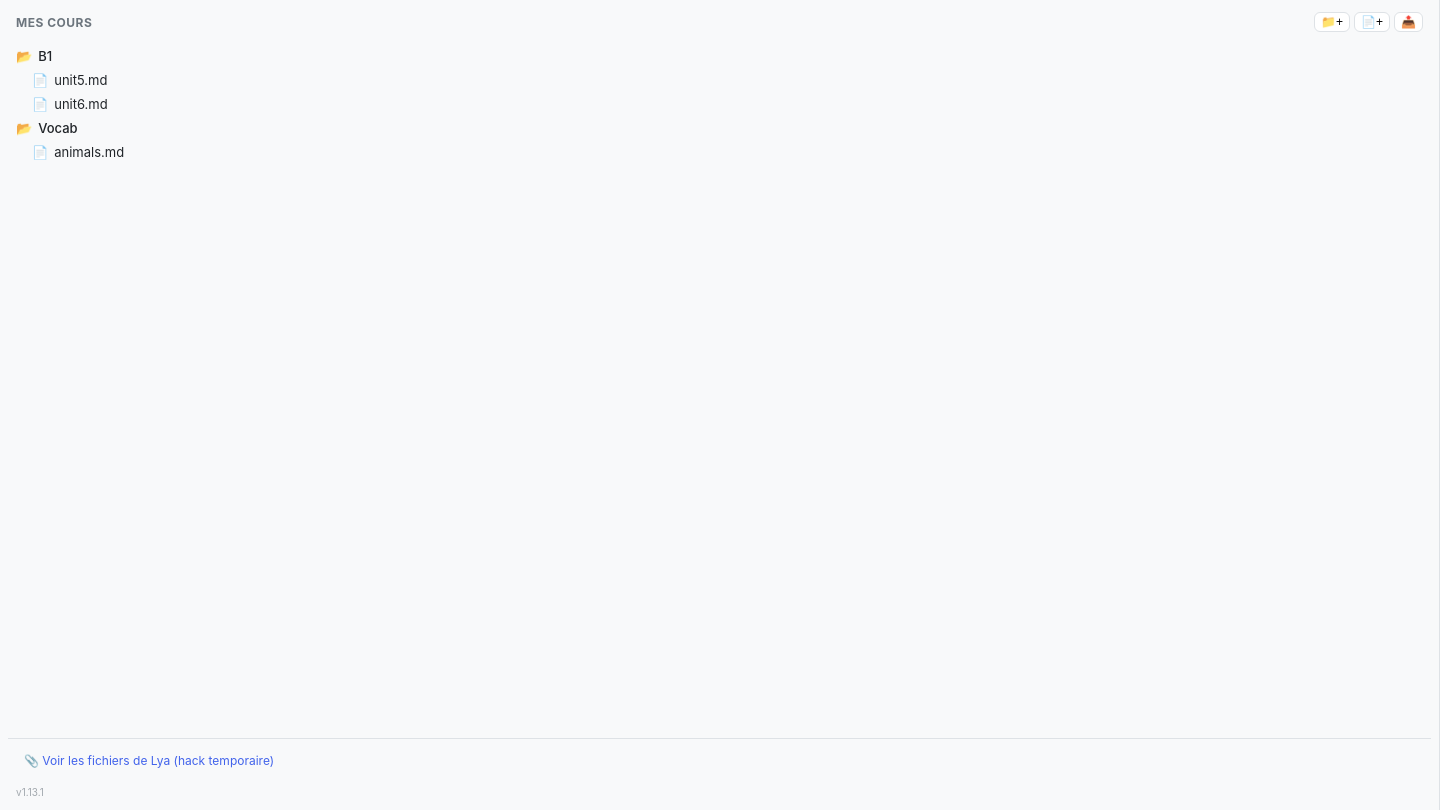
Test case: FileTree › collapses and expands directories on click
The width and height of the screenshot is (1440, 810).
Expected: the text "unit5.md" is shown, [54,72,107,88]
# Click B1 to collapse
Click the text "B1" at (45, 56), box [38,48,52,64]
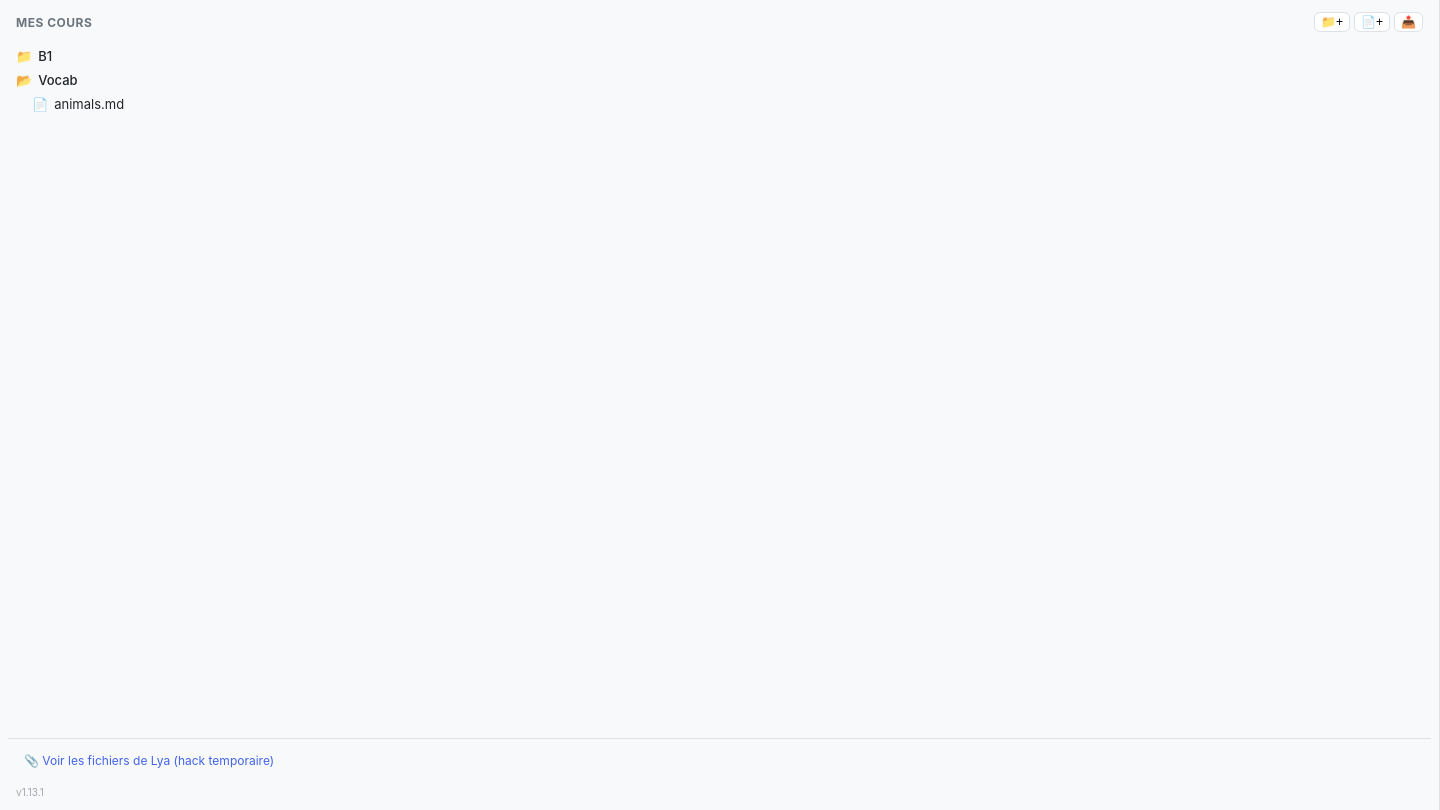
Expected: the text "unit5.md" is gone
# Click B1 again to expand
Click the text "B1" at (45, 56), box [38,48,52,64]
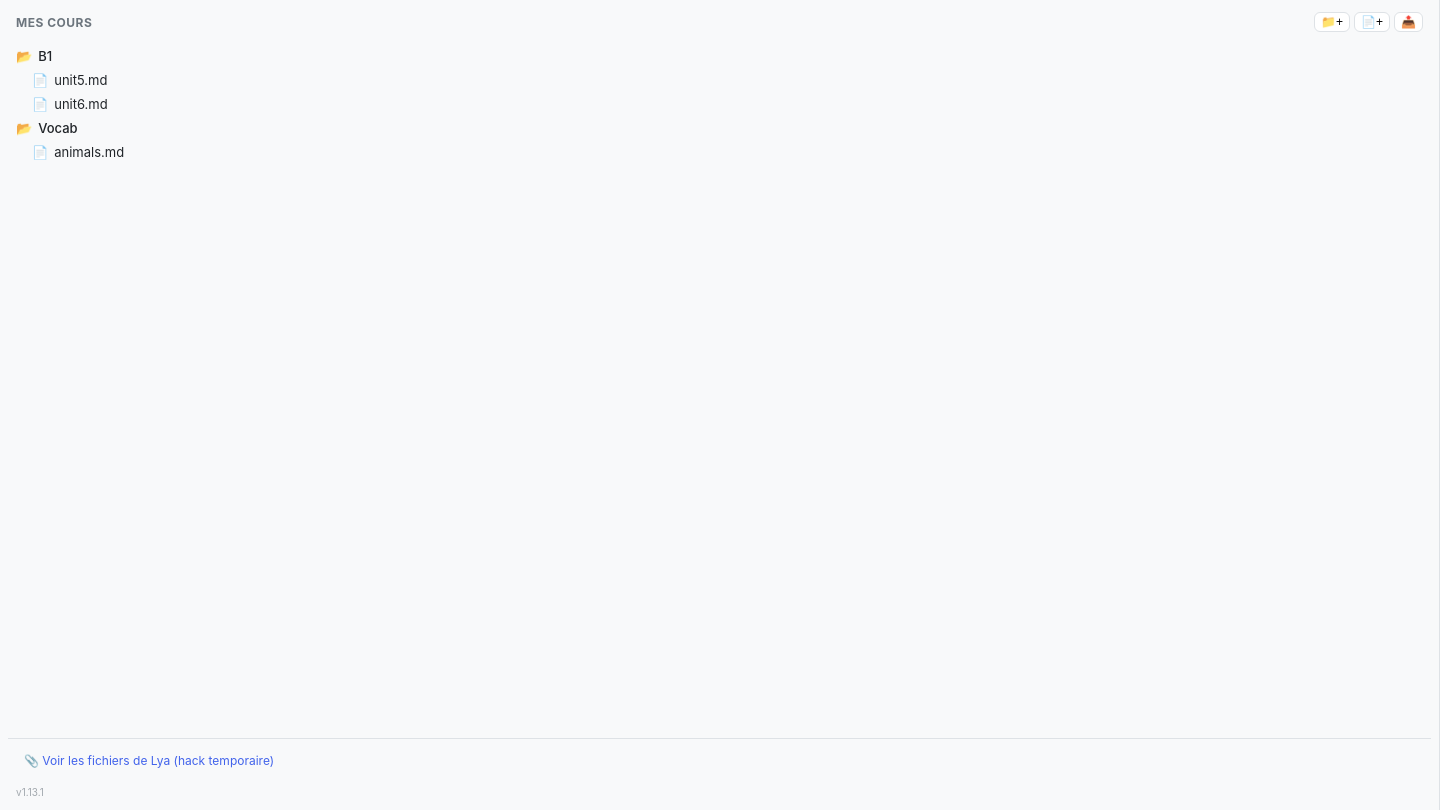
Expected: the text "unit5.md" is shown, [54,72,107,88]
